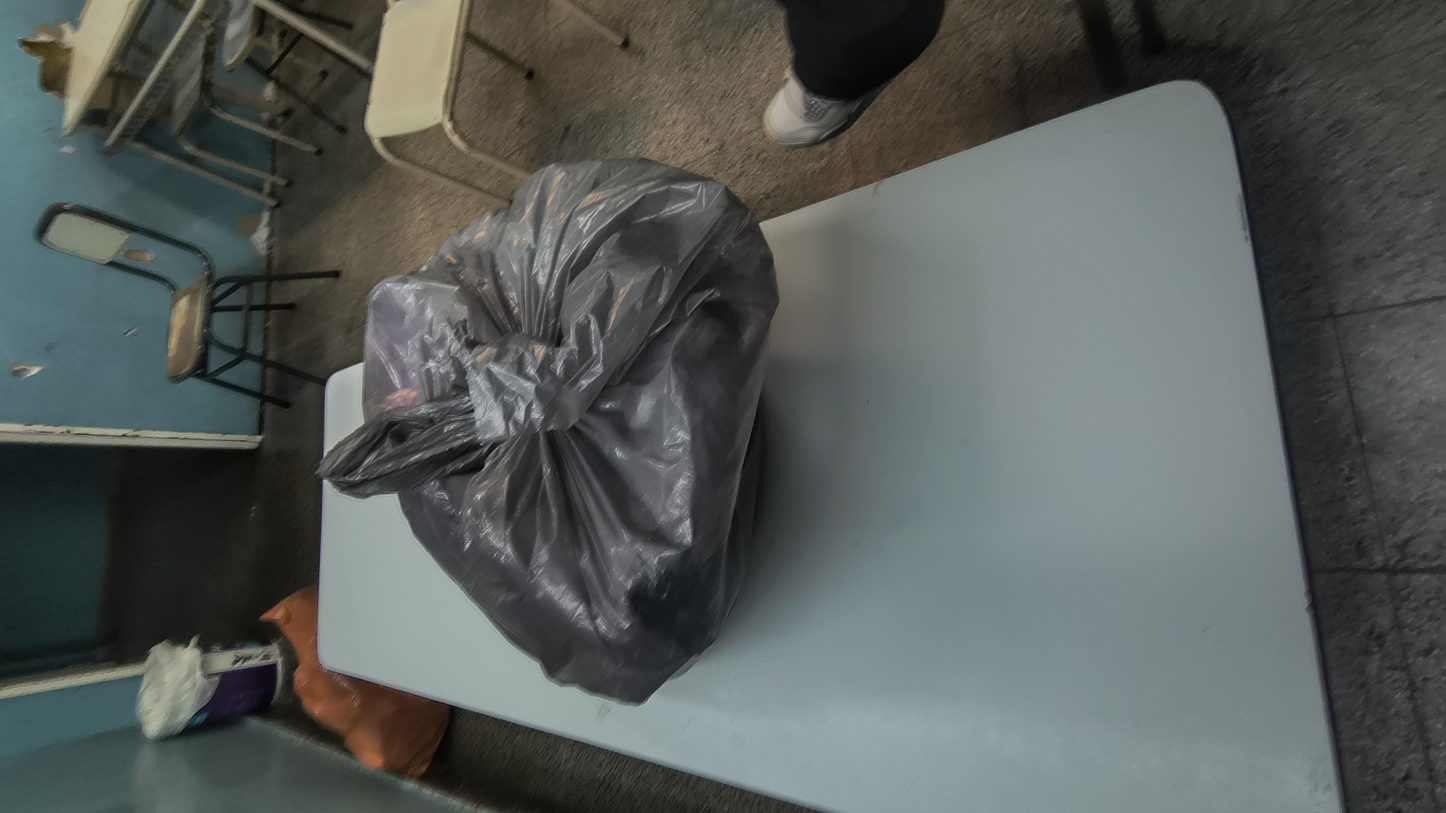Garbage: (173, 160, 1248, 492)
